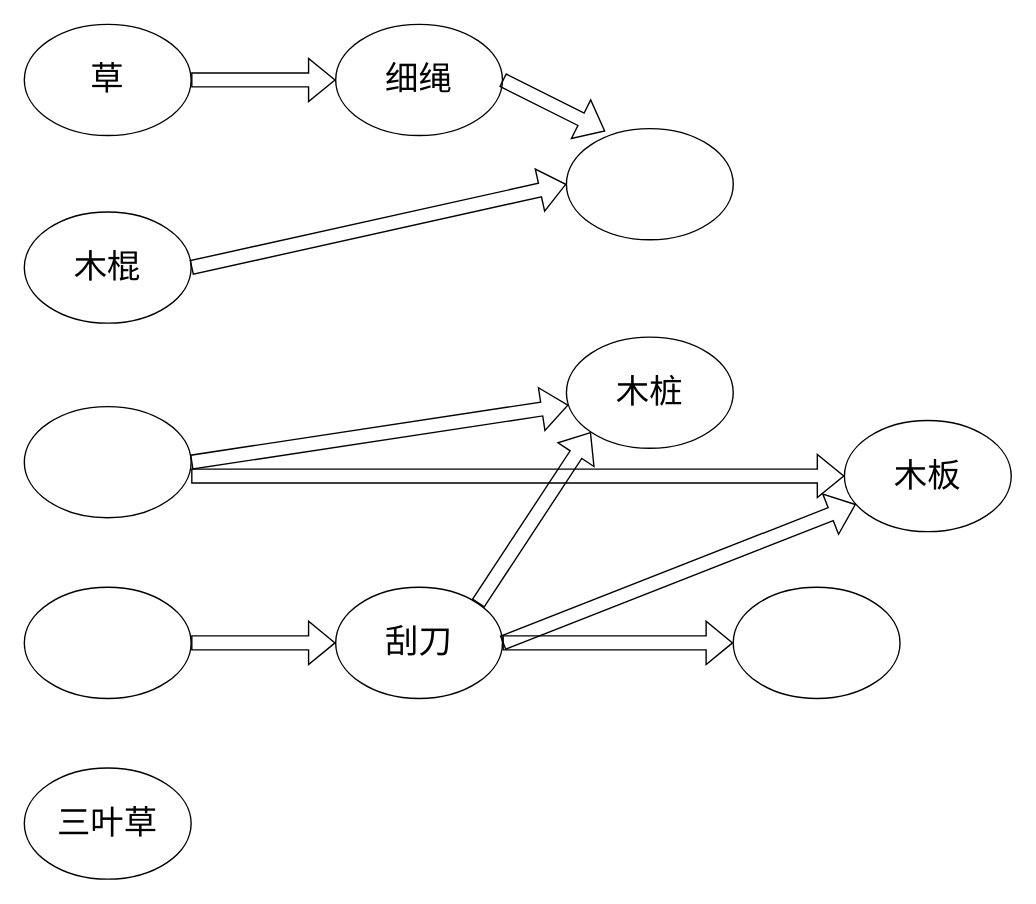
The diagram is 1036 pixels wide and 904 high, and some of its shapes have lost their labels. Each missing label, with the box of its shape:
原木: (23, 405, 191, 518)
小刀: (732, 586, 900, 698)
板条: (565, 127, 733, 240)
石头: (23, 586, 191, 698)
